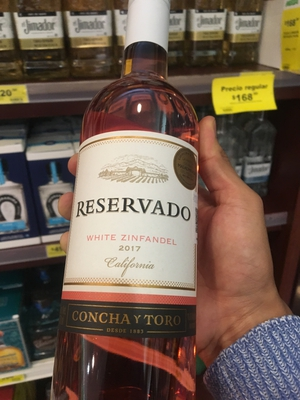reservado white zinfandel: (50, 20, 212, 400)
